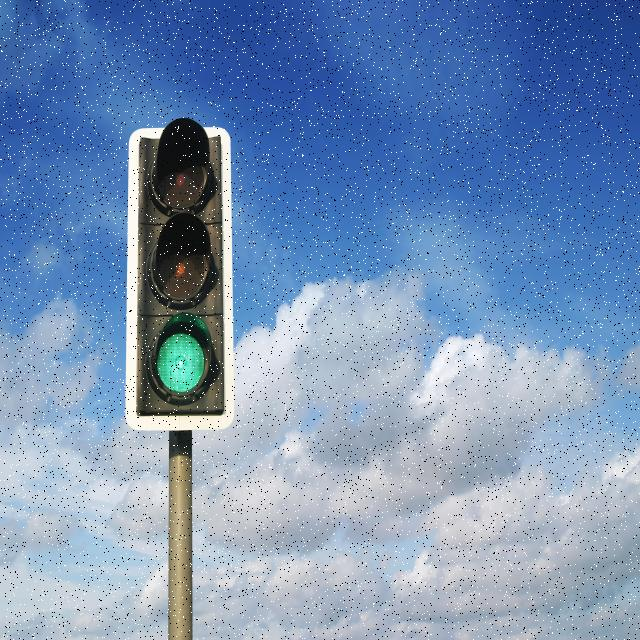green: (134, 133, 226, 417)
